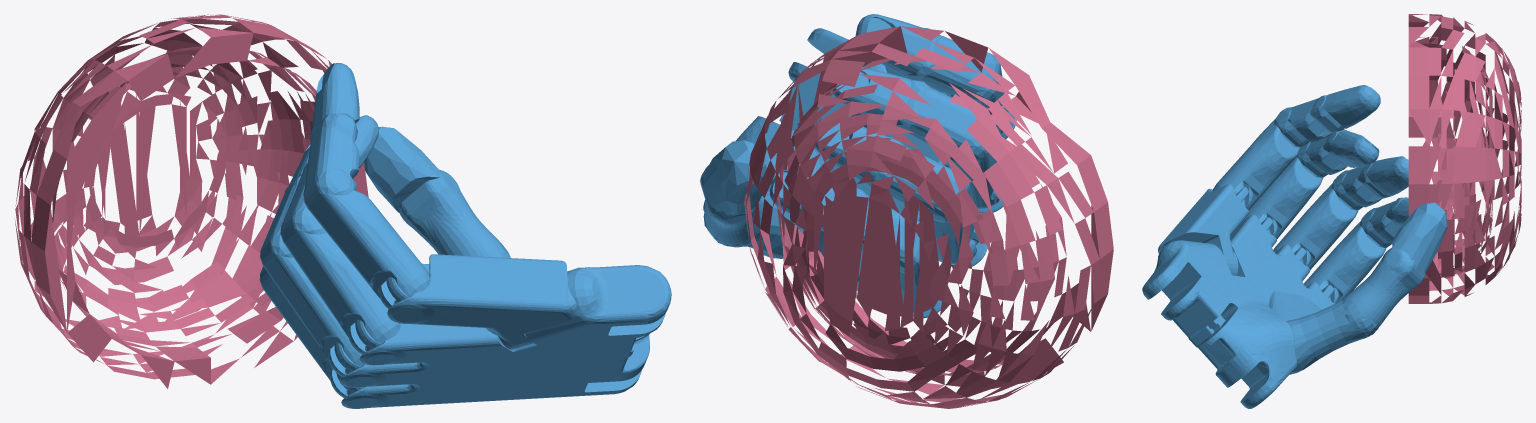
3 views of the same model, side by side, from view 1: azimuth 30°, elevation 25°; view 2: azimuth 150°, elevation 25°; view 3: azimuth 270°, elevation 25° (orthographic). The views are drawn at different scales.
Visible parts, largest first — view 1: 8; view 2: 8; view 3: 8.
Part boxes in pixels (x1,y1,x2,y2): 8: (14,14,671,408); 8: (700,14,1113,408); 8: (1142,14,1521,408).
Size of the model in its own units: 0.2088 by 0.1418 by 0.1819.
